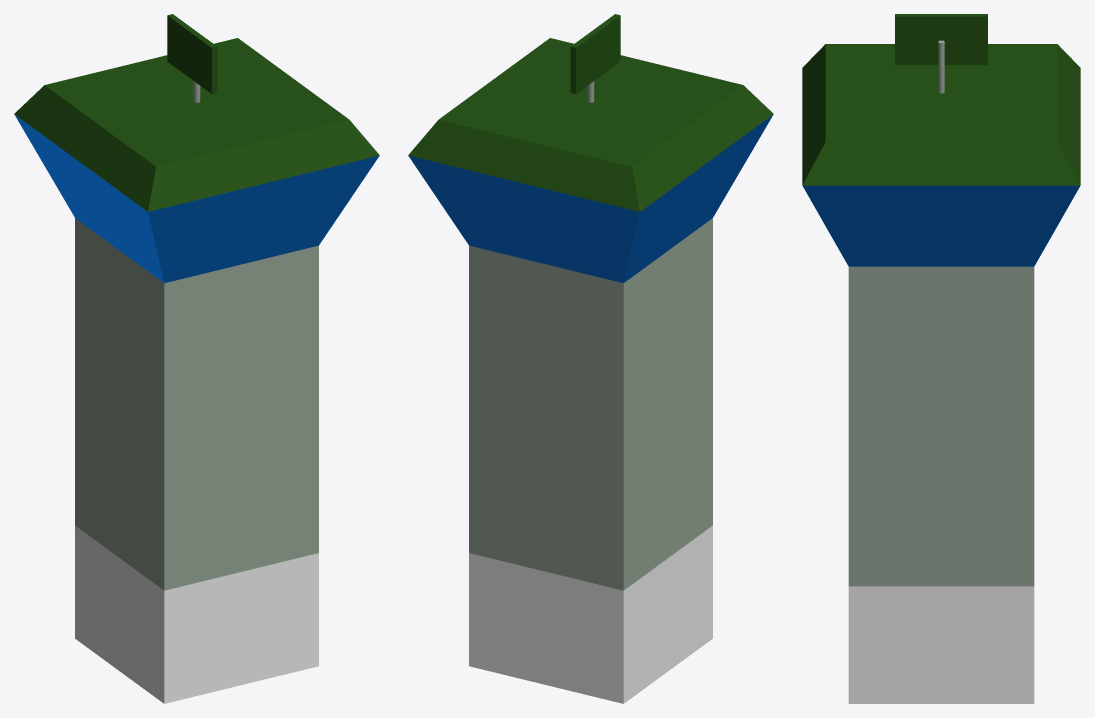
The model's file is control_tower_1.glb.
3 views of the same model, side by side, from view 1: azimuth 30°, elevation 25°; view 2: azimuth 150°, elevation 25°; view 3: azimuth 270°, elevation 25° (orthographic). The views are drawn at different scales.
Visible parts, largest first — view 1: Cube, Würfel; view 2: Cube, Würfel; view 3: Cube, Würfel.
Part boxes in pixels (x1=…): Cube: x1=14, y1=38, x2=379, y2=703; Würfel: x1=167, y1=14, x2=217, y2=93; Cube: x1=408, y1=38, x2=773, y2=703; Würfel: x1=570, y1=14, x2=620, y2=93; Cube: x1=802, y1=44, x2=1080, y2=703; Würfel: x1=895, y1=14, x2=987, y2=64.
Bounding box in the file's own units: 0.5 × 1.28 × 0.5.
